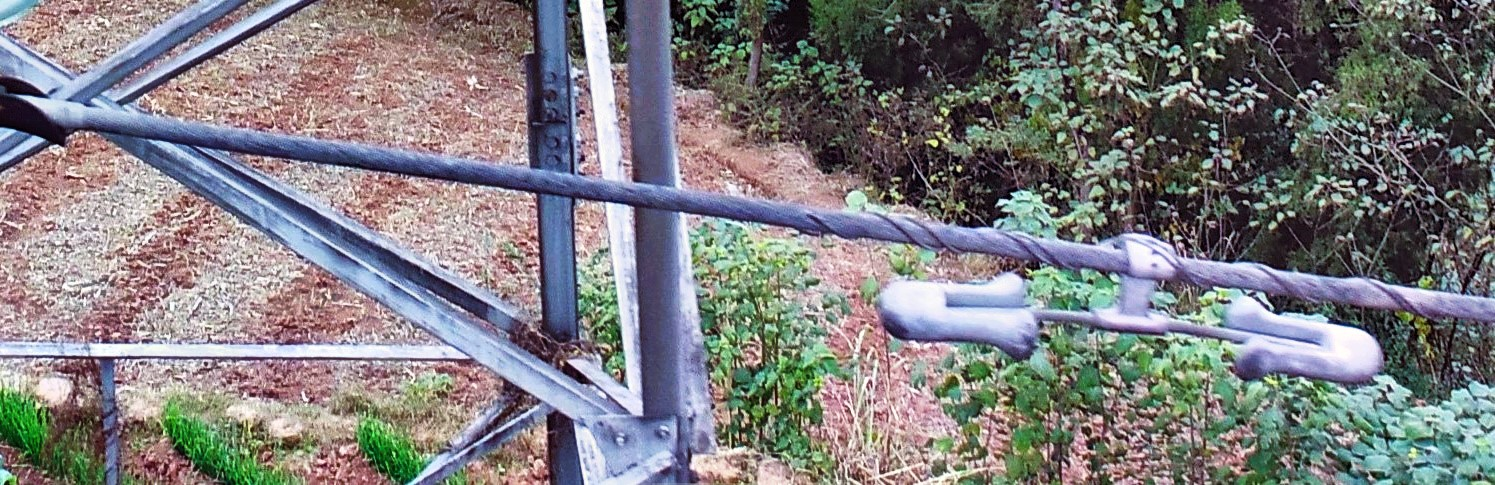Shockproof hammer: (867, 207, 1391, 402)
